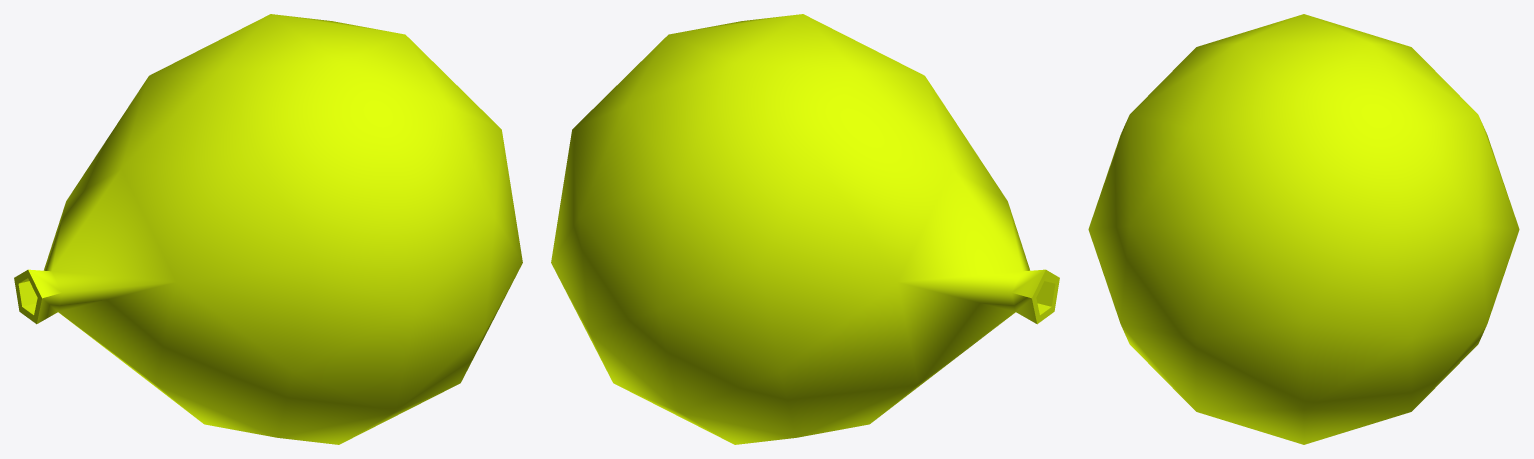
The picture shows the model from 3 angles, left to right: view 1: azimuth 30°, elevation 25°; view 2: azimuth 150°, elevation 25°; view 3: azimuth 270°, elevation 25°; orthographic projection. The views are drawn at different scales.
Visible parts, largest first — view 1: 棱角球; view 2: 棱角球; view 3: 棱角球.
Boxes of the visible parts, x1,y1,x2,y2 form: 棱角球: [14, 14, 522, 444]; 棱角球: [551, 14, 1059, 444]; 棱角球: [1088, 14, 1519, 444].
Size of the model in its own units: 2.45 by 1.9 by 2.
Materials: 1 (1 with a texture image).
